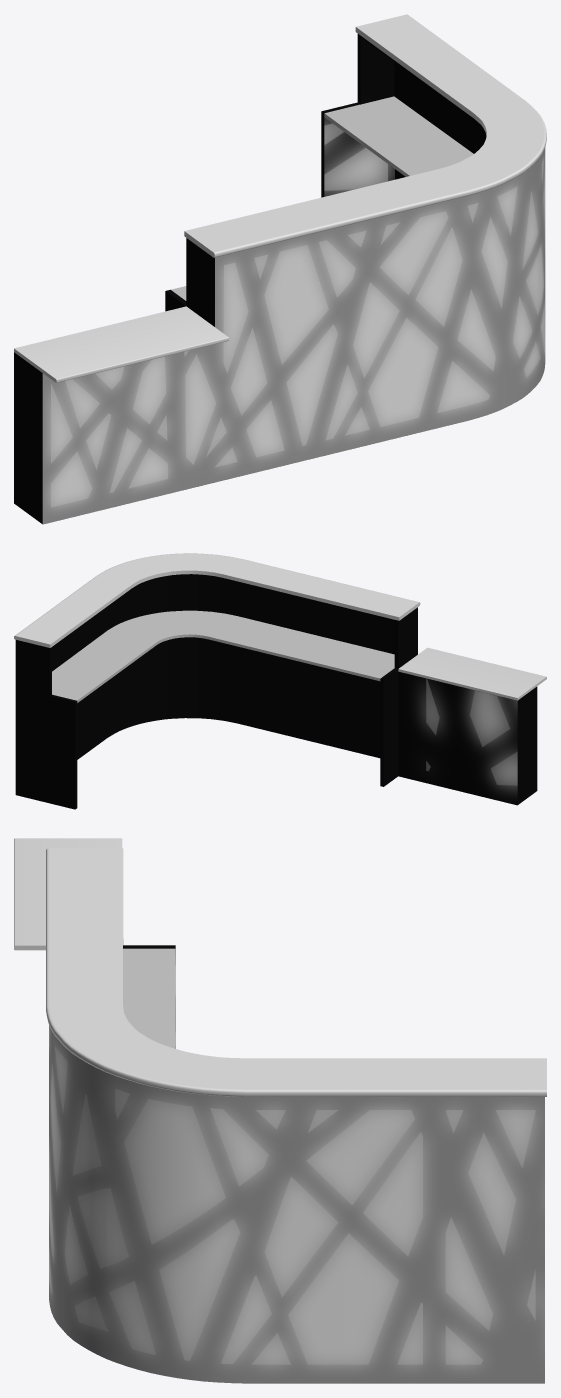
File: bar.fbx
The picture shows the model from 3 angles, top to bottom: view 1: azimuth 30°, elevation 25°; view 2: azimuth 150°, elevation 25°; view 3: azimuth 270°, elevation 25°; orthographic projection. The views are drawn at different scales.
Visible parts, largest first — view 1: cgaxis_models_102_03_01_01, cgaxis_models_102_03_02_01, cgaxis_models_102_03_02_02, cgaxis_models_102_03_03_01; view 2: cgaxis_models_102_03_01_01, cgaxis_models_102_03_03_01, cgaxis_models_102_03_02_01, cgaxis_models_102_03_02_02; view 3: cgaxis_models_102_03_01_01, cgaxis_models_102_03_02_01, cgaxis_models_102_03_03_01, cgaxis_models_102_03_02_02.
Part boxes in pixels (bbox=[...]): cgaxis_models_102_03_01_01: bbox=[14, 34, 545, 524]; cgaxis_models_102_03_02_01: bbox=[184, 14, 546, 257]; cgaxis_models_102_03_02_02: bbox=[14, 306, 228, 382]; cgaxis_models_102_03_03_01: bbox=[171, 96, 473, 300]; cgaxis_models_102_03_01_01: bbox=[15, 574, 537, 809]; cgaxis_models_102_03_03_01: bbox=[52, 610, 394, 702]; cgaxis_models_102_03_02_01: bbox=[14, 553, 420, 647]; cgaxis_models_102_03_02_02: bbox=[398, 647, 546, 700]; cgaxis_models_102_03_01_01: bbox=[49, 945, 544, 1383]; cgaxis_models_102_03_02_01: bbox=[46, 848, 546, 1096]; cgaxis_models_102_03_03_01: bbox=[123, 948, 175, 1048]; cgaxis_models_102_03_02_02: bbox=[14, 838, 122, 950].
Size of the model in its own units: 282 by 111 by 182.
Materials: 3 (1 with a texture image).
